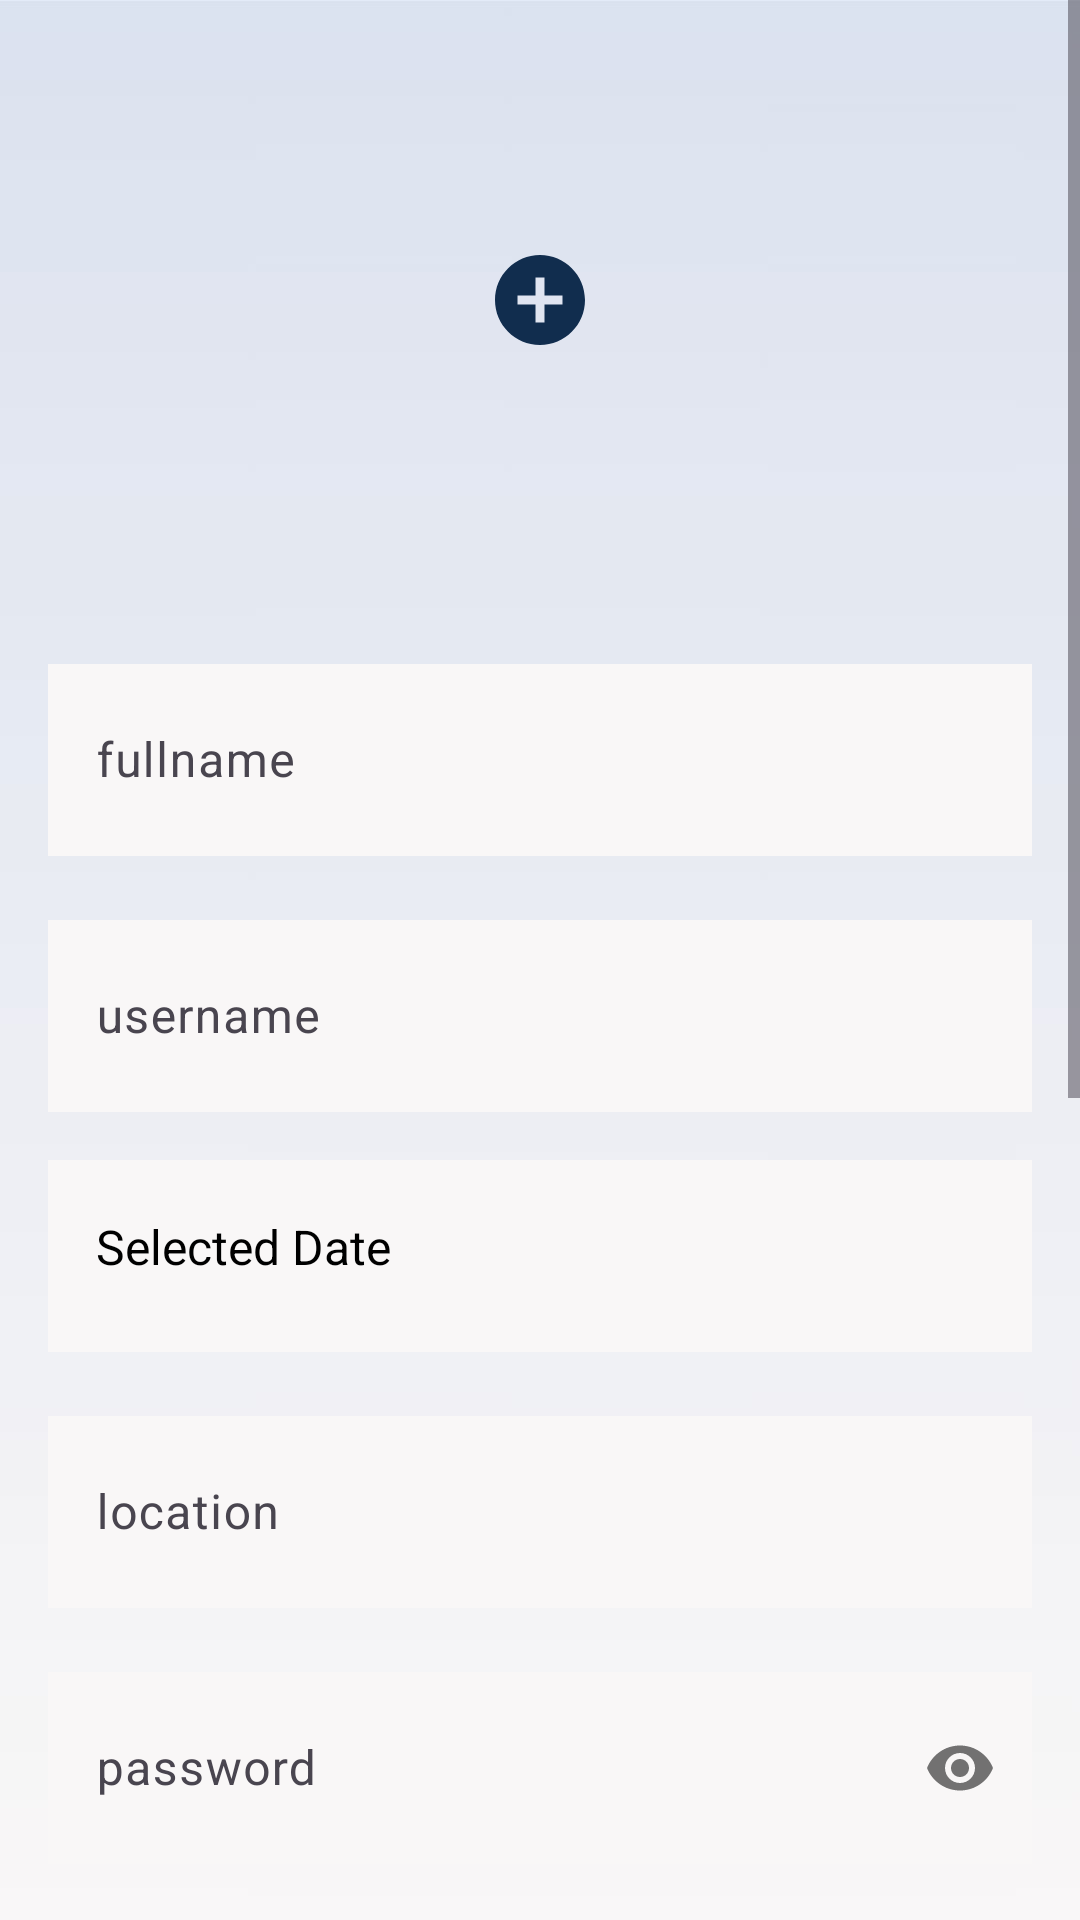

Screen size 1080*1920. Icon name, then its center in pixels as [x,y]:
add: [540,300]
